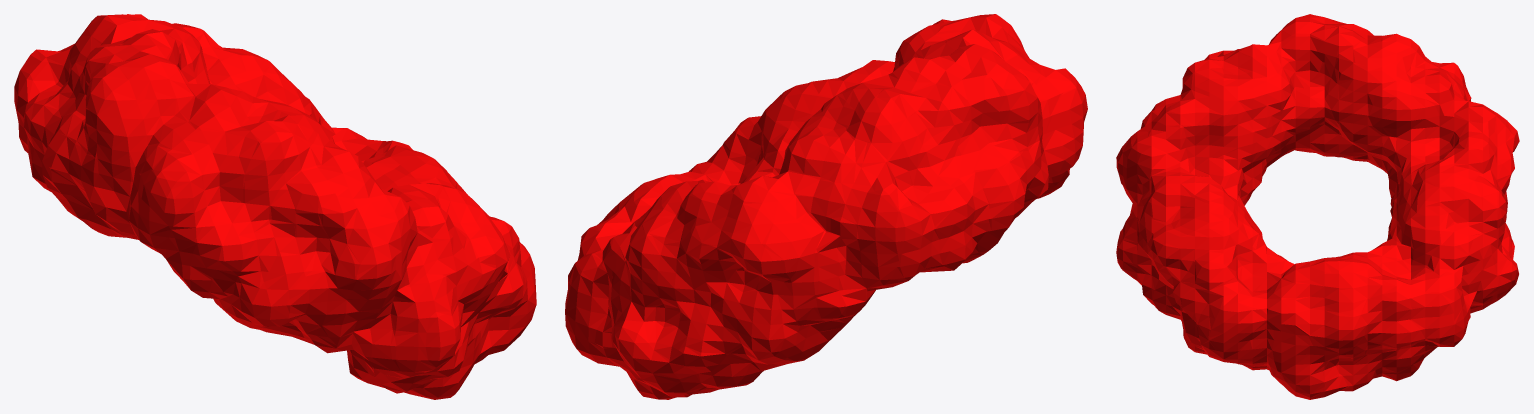
Rendered from Peroxiredoxin_1_Thioredoxin_pe_coarse.dae.
The picture shows the model from 3 angles, left to right: view 1: azimuth 30°, elevation 25°; view 2: azimuth 150°, elevation 25°; view 3: azimuth 270°, elevation 25°; orthographic projection. The views are drawn at different scales.
Visible parts, largest first — view 1: Peroxiredoxin_1_Thioredoxin_pe; view 2: Peroxiredoxin_1_Thioredoxin_pe; view 3: Peroxiredoxin_1_Thioredoxin_pe.
Boxes of the visible parts, x1=… form: Peroxiredoxin_1_Thioredoxin_pe: x1=14, y1=14, x2=536, y2=399; Peroxiredoxin_1_Thioredoxin_pe: x1=565, y1=14, x2=1087, y2=399; Peroxiredoxin_1_Thioredoxin_pe: x1=1116, y1=14, x2=1519, y2=399.
Size of the model in its own units: 118 by 98.97 by 131.
